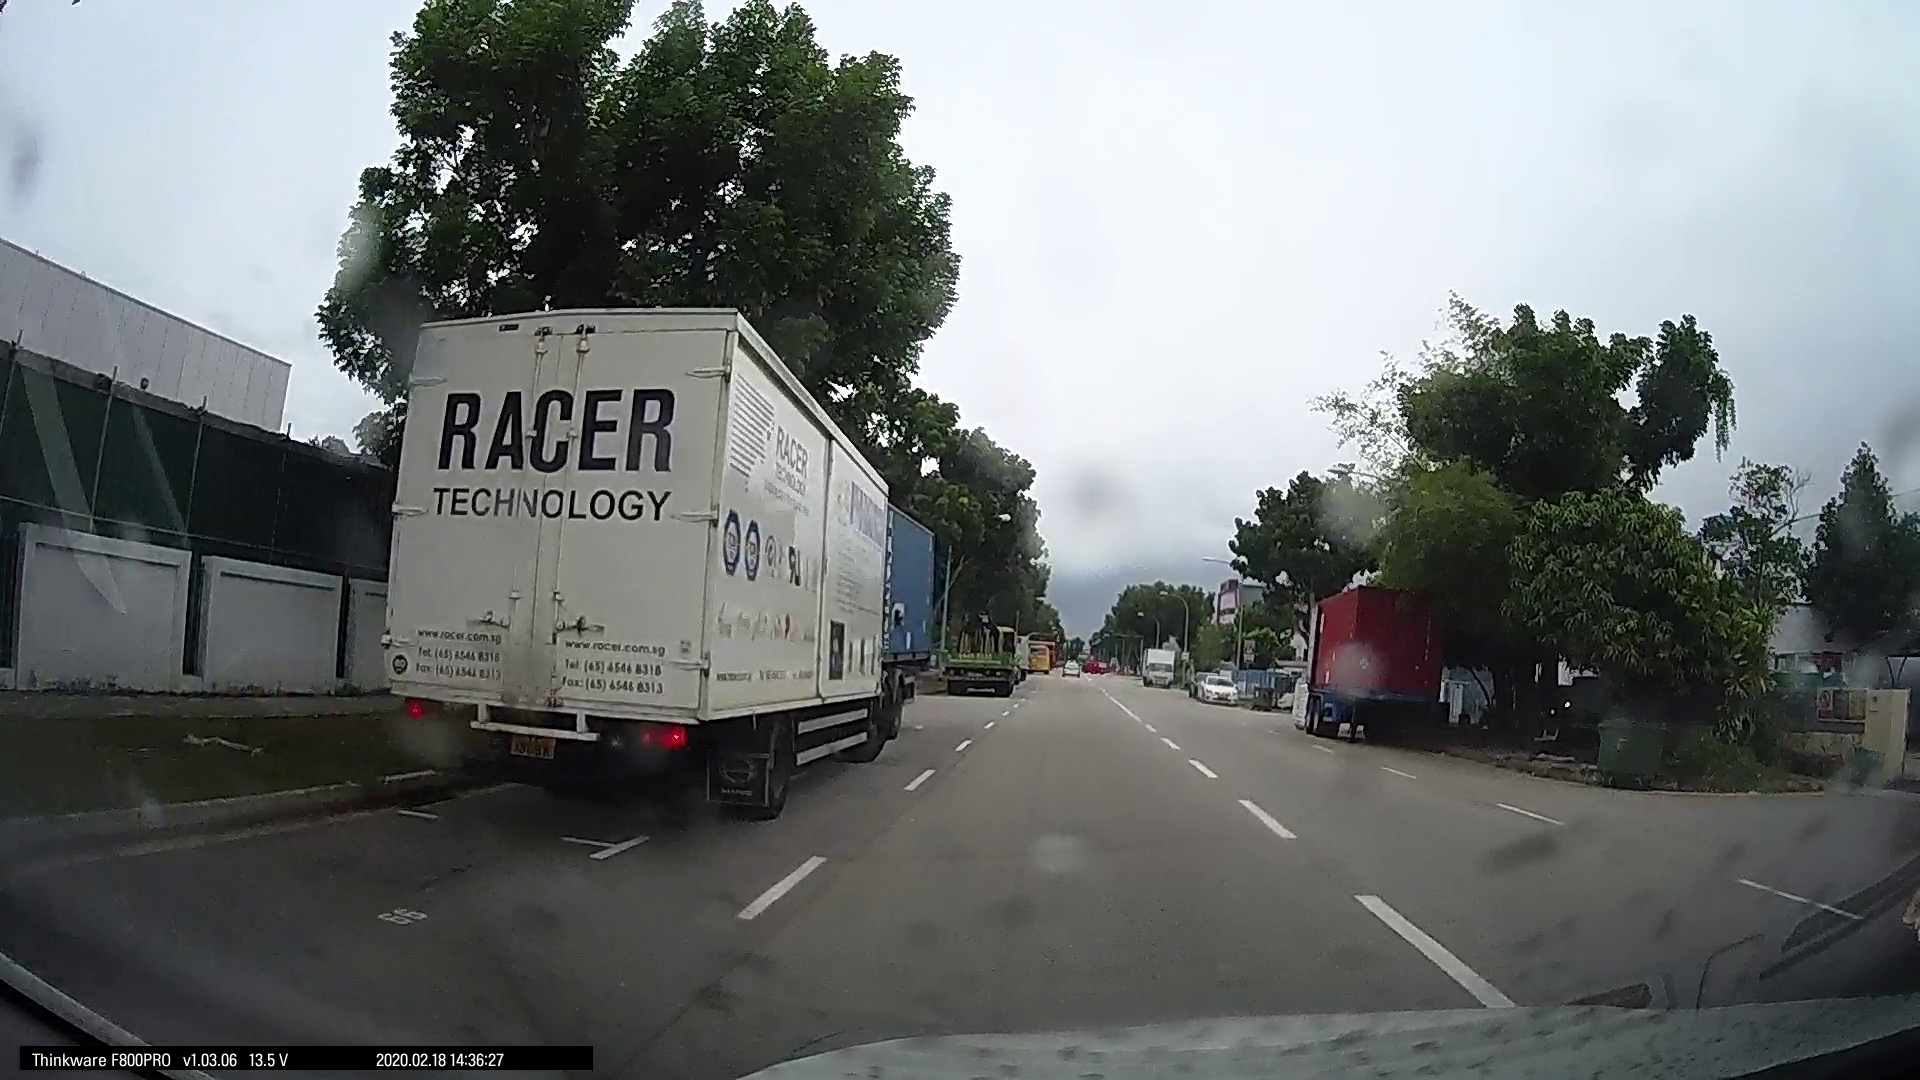Heavy Vehicle: (373, 291, 902, 822), (1288, 579, 1457, 746)
Light Vehicle: (1188, 666, 1238, 705)
